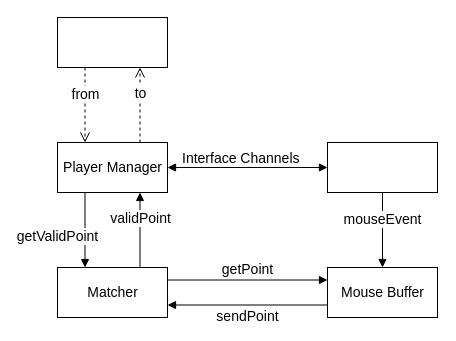
Some shapes in this 456 by 341 pixel diagram are drawn without their labels. The centre of each missing label's shape, as x and y in pixels:
Controller: the point at 112,42
Player Interface: the point at 382,167
